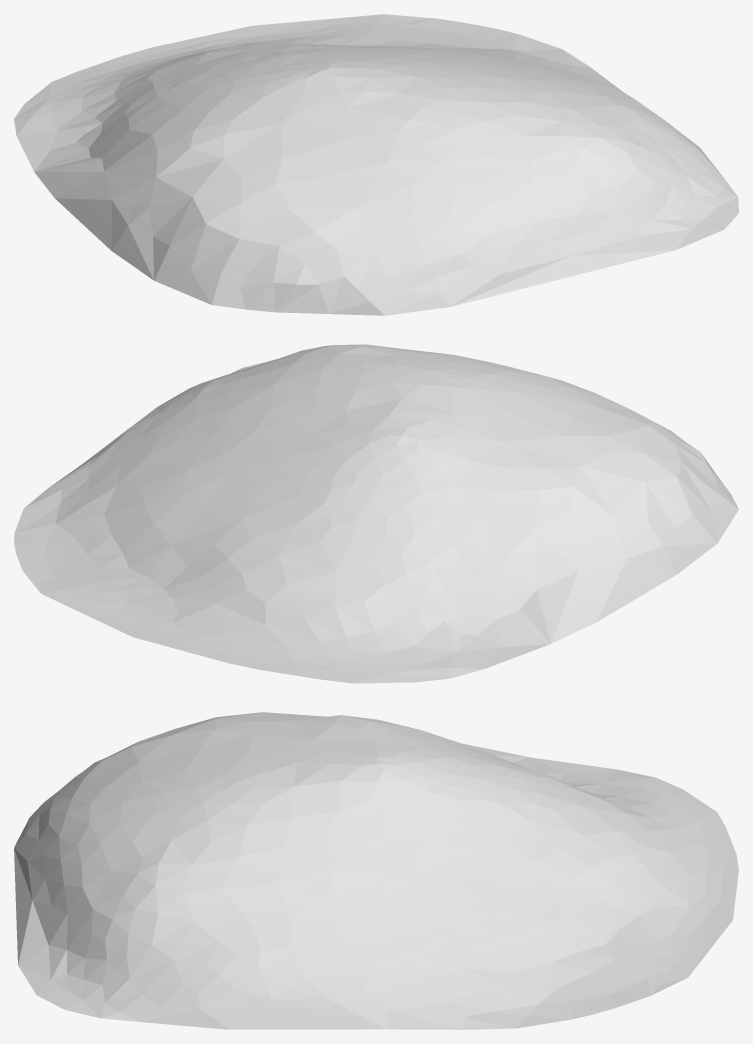
File: Hill_11.glb
The picture shows the model from 3 angles, top to bottom: view 1: azimuth 30°, elevation 25°; view 2: azimuth 150°, elevation 25°; view 3: azimuth 270°, elevation 25°; orthographic projection. The views are drawn at different scales.
Parts seen in each view (by area): view 1: Hill_11; view 2: Hill_11; view 3: Hill_11.
Part boxes in pixels (x1,y1,x2,y2): Hill_11: (14,14,738,315); Hill_11: (14,344,738,683); Hill_11: (14,712,738,1029).
Size of the model in its own units: 56.43 by 9.82 by 60.8.
Materials: 1 (1 with a texture image).
